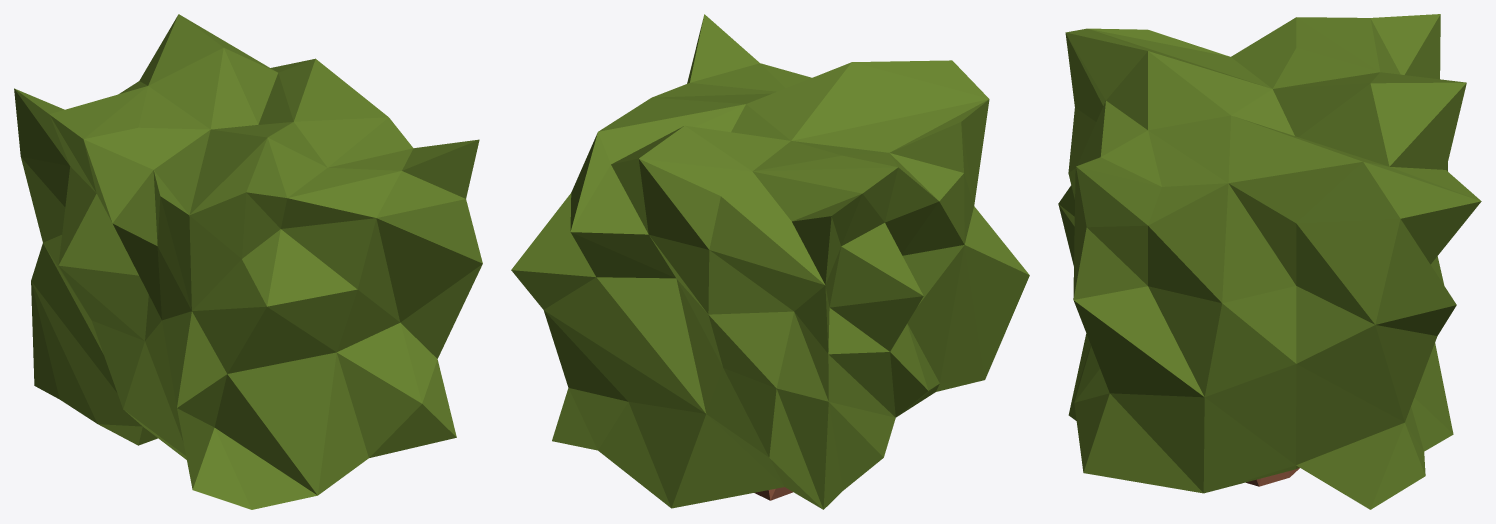
The model's file is bush_7_autumn_vc.fbx.
3 renders of one model, left to right at view 1: azimuth 30°, elevation 25°; view 2: azimuth 150°, elevation 25°; view 3: azimuth 270°, elevation 25°, orthographic. The views are drawn at different scales.
Parts seen in each view (by area): view 1: bush_7_autumn_vc; view 2: bush_7_autumn_vc; view 3: bush_7_autumn_vc.
Part boxes in pixels (x1,y1,x2,y2): bush_7_autumn_vc: [14, 14, 482, 509]; bush_7_autumn_vc: [511, 14, 1029, 509]; bush_7_autumn_vc: [1058, 14, 1481, 509].
Bounding box in the file's own units: 1.24 × 1.36 × 1.29.
